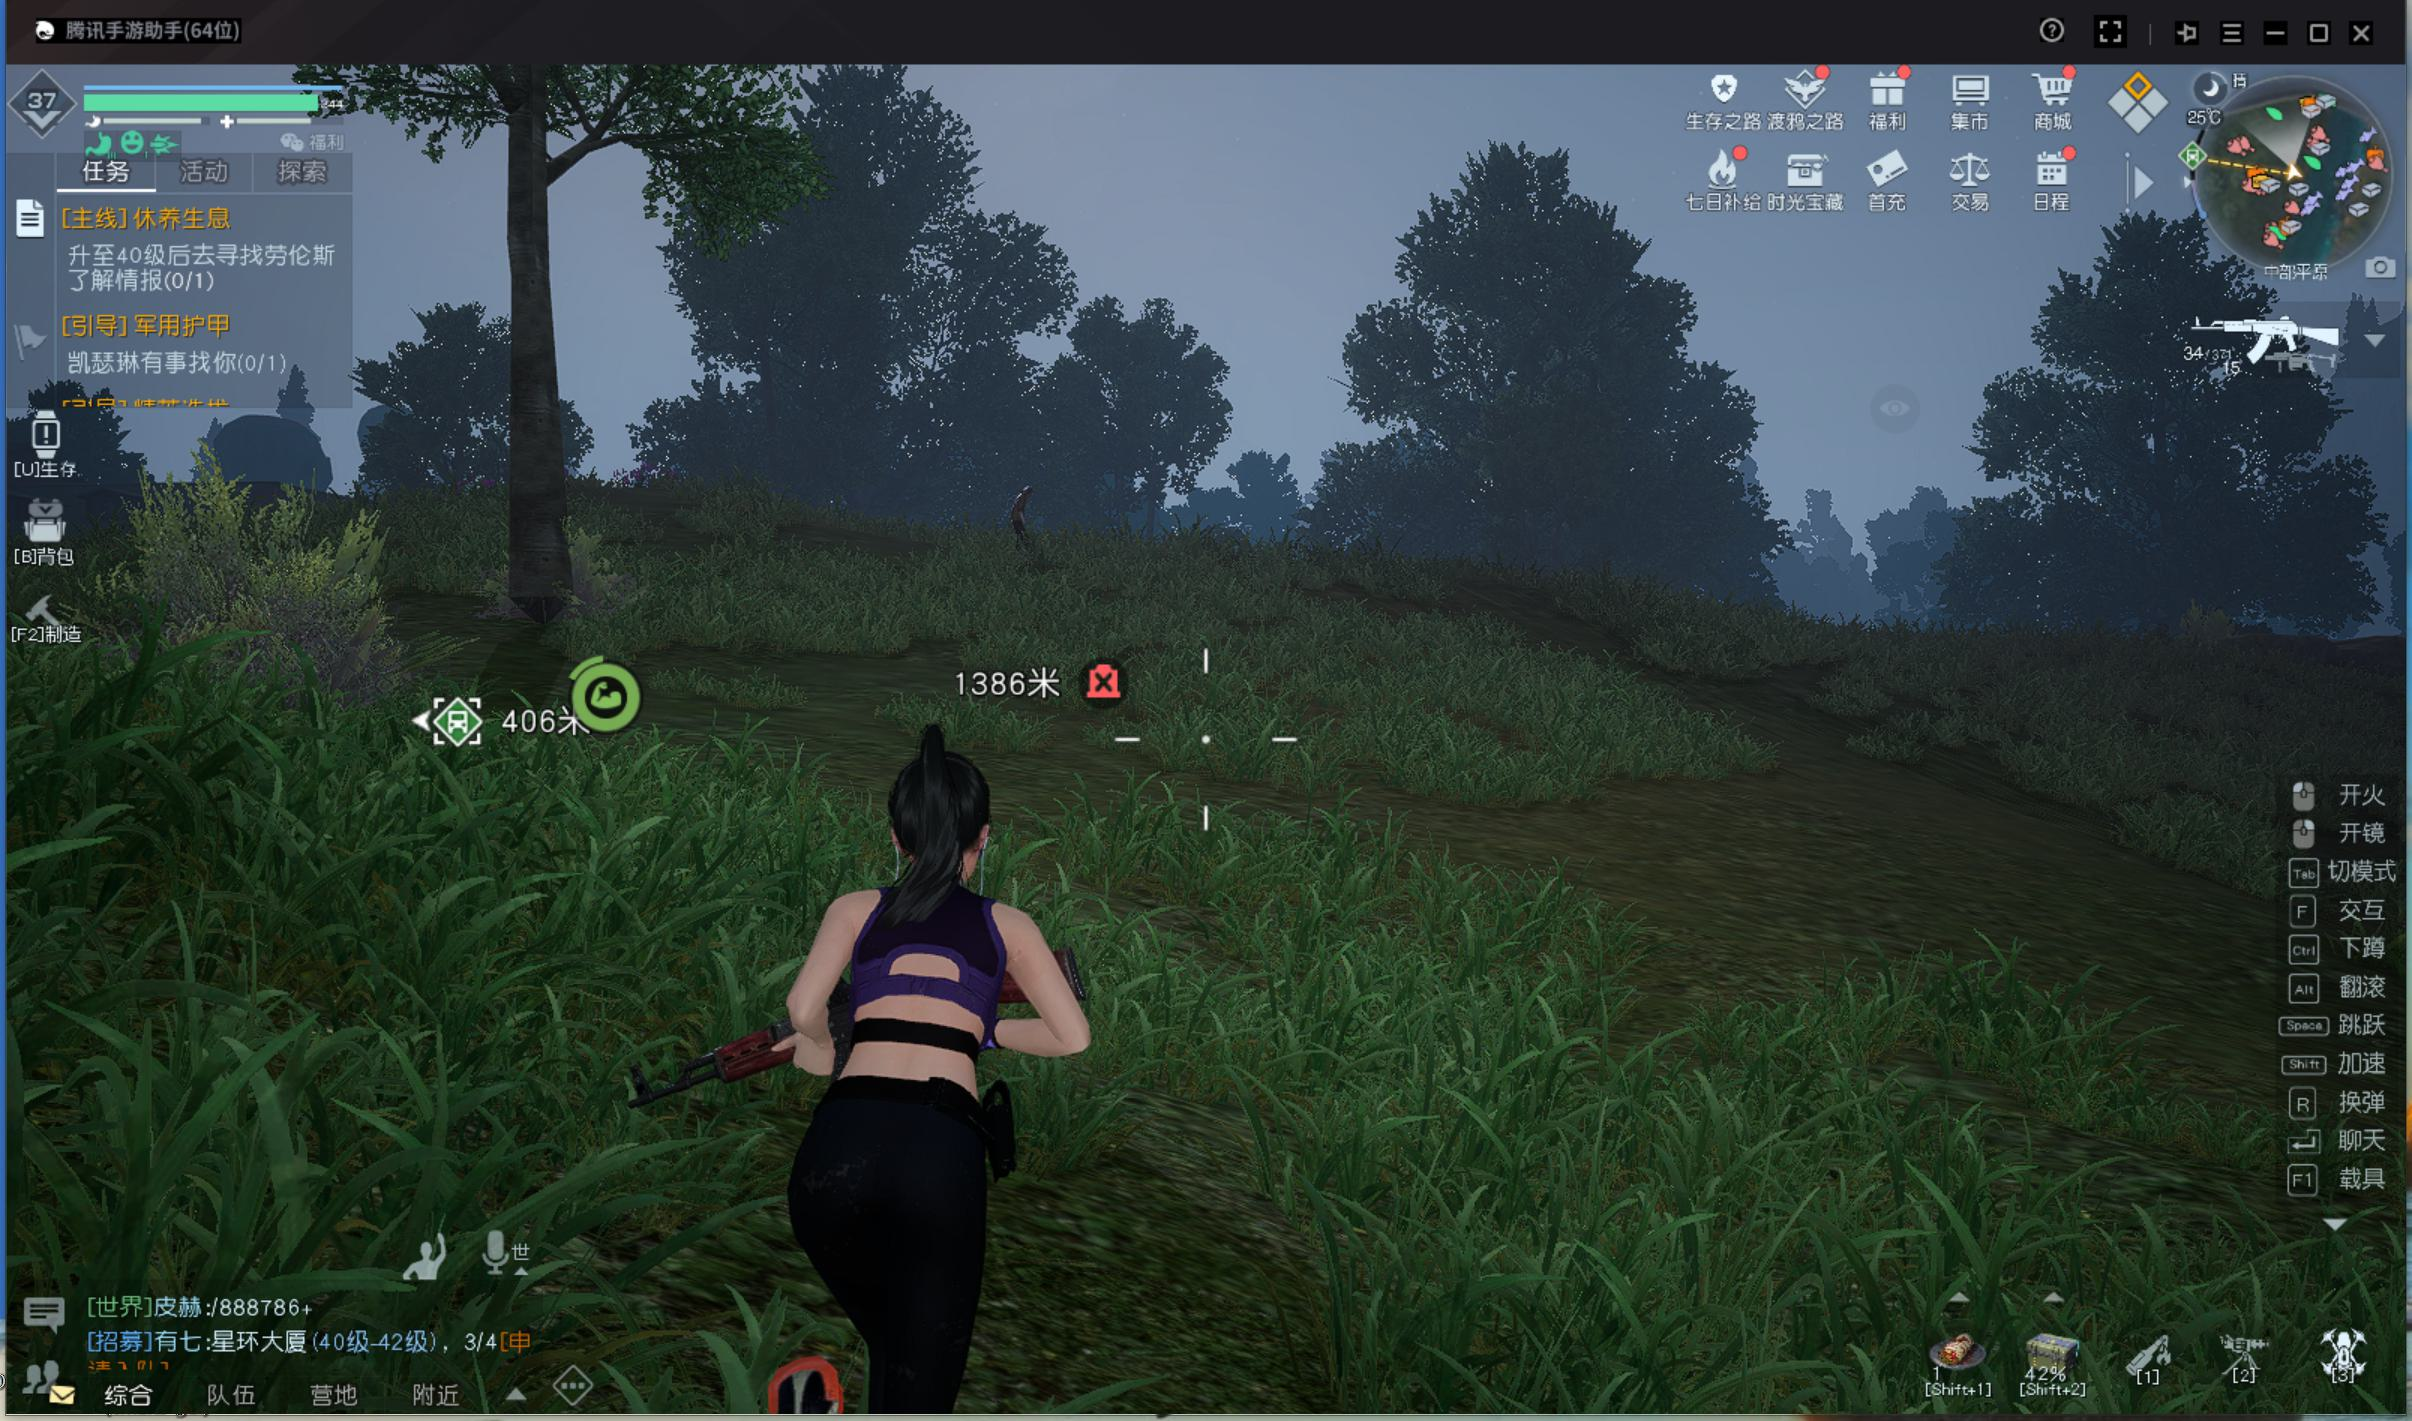tree: (474, 166, 589, 624)
